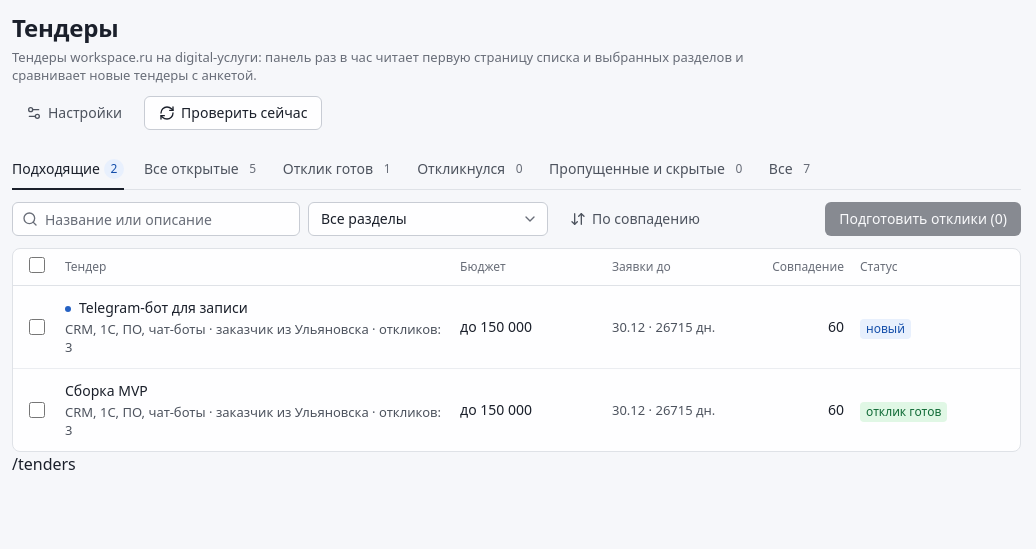
Test: TendersPage › lists the suitable tenders and asks Claude for answers to the chosen ones
Check: the button "Telegram-бот для записи" is shown, box [79, 298, 248, 318]
Check: the tab "Подходящие 2" is shown, box [12, 150, 124, 190]
Click the checkbox named "Выбрать: Telegram-бот для записи": (37, 327) [29, 319, 45, 335]
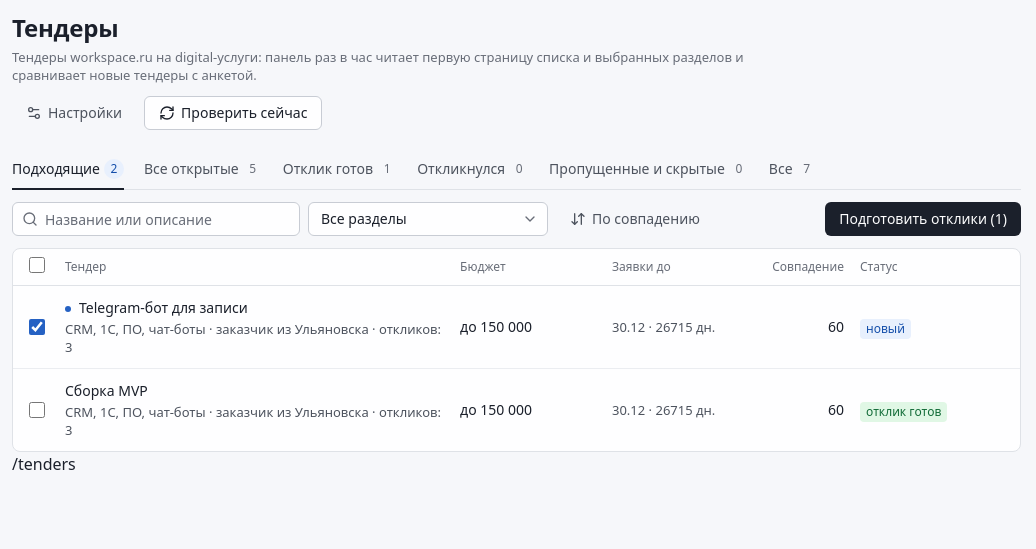
Click the button "Подготовить отклики (1)": (923, 219) [825, 202, 1021, 236]
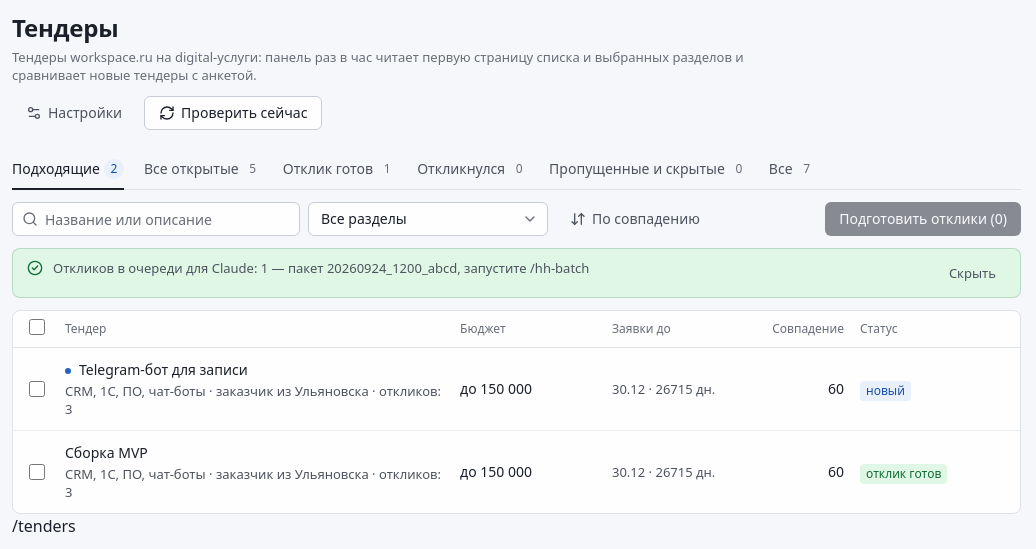
Check: the text "пакет 20260924_1200_abcd, запустите /hh-batch" is shown, box [53, 259, 589, 277]
